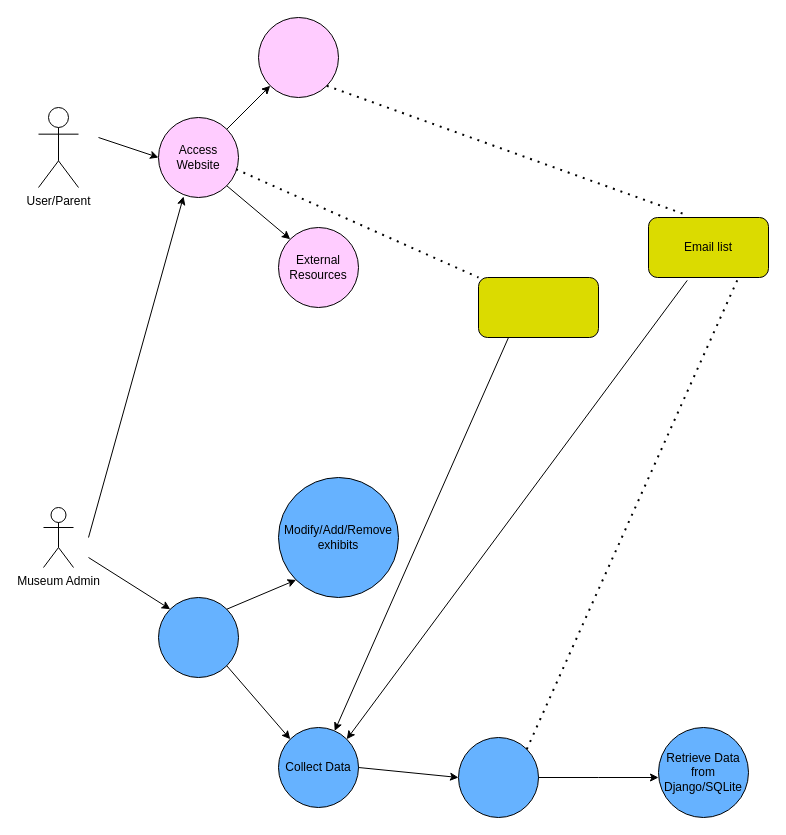
Some shapes in this 786 by 835 pixel diagram are drawn without their labels. Each missing label, with the centre of its shape:
"Admin login" belongs at pixel 198 637.
"Collect analytics through Google Analytics" belongs at pixel 538 307.
"Explore Exhibits" belongs at pixel 298 57.
"User interaction" belongs at pixel 498 777.
